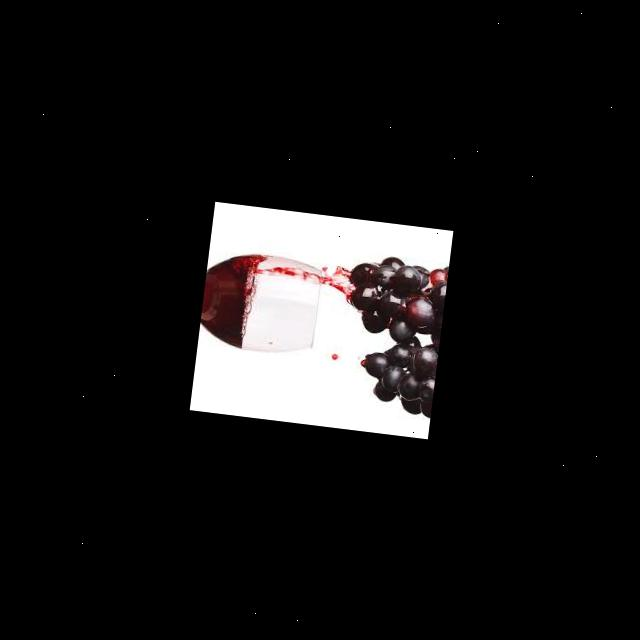grape: (333, 250, 448, 418)
